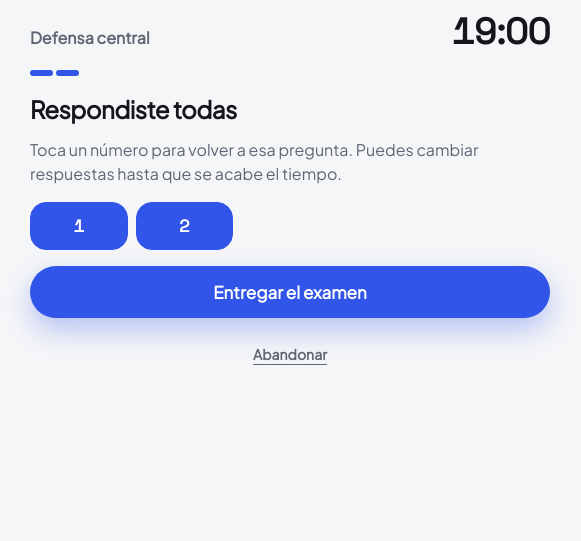
Test case: examen de conocimiento › abandonar pide confirmación
Expected: the heading "Respondiste todas" is shown, x1=30 y1=94 x2=237 y2=124
Click the button "Abandonar". click: (290, 354)
box: x1=30 y1=330 x2=550 y2=378
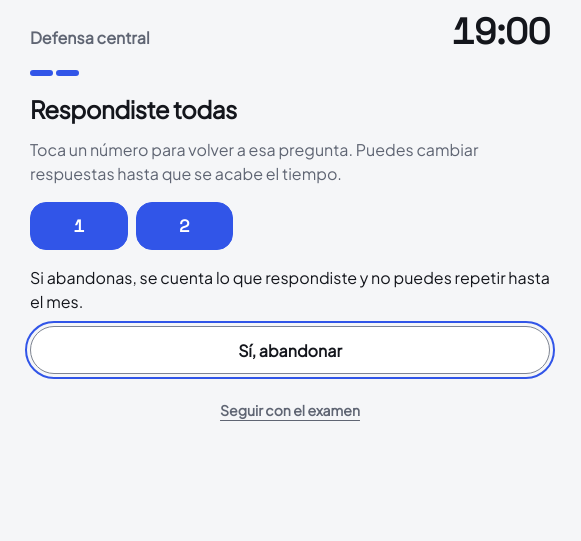
Click the button "Sí, abandonar". click: (290, 350)
box: x1=30 y1=326 x2=550 y2=374
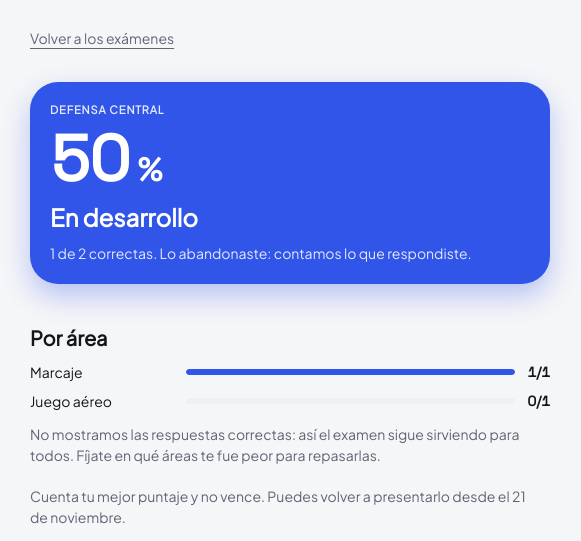
Expected: the text "Lo abandonaste" is shown, x1=153 y1=244 x2=468 y2=262
